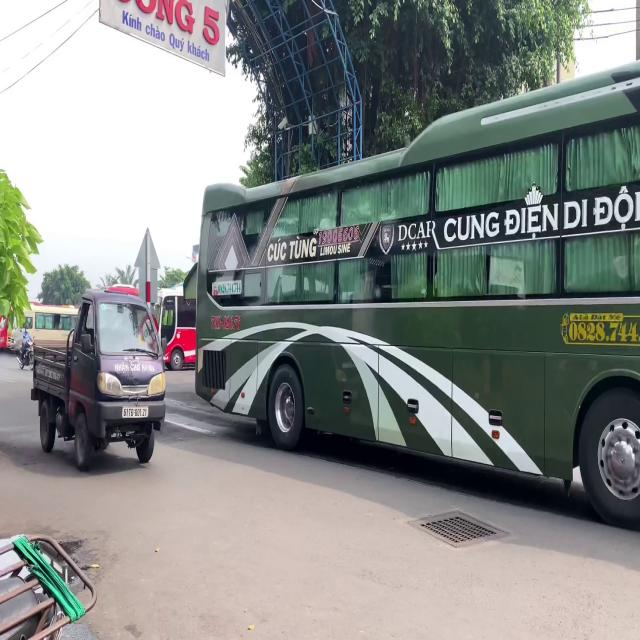bien_trang: (122, 406, 148, 418)
